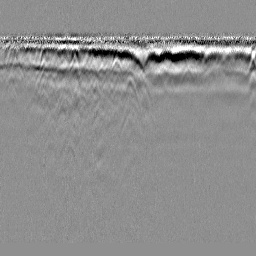cavity: (119, 74, 141, 109)
